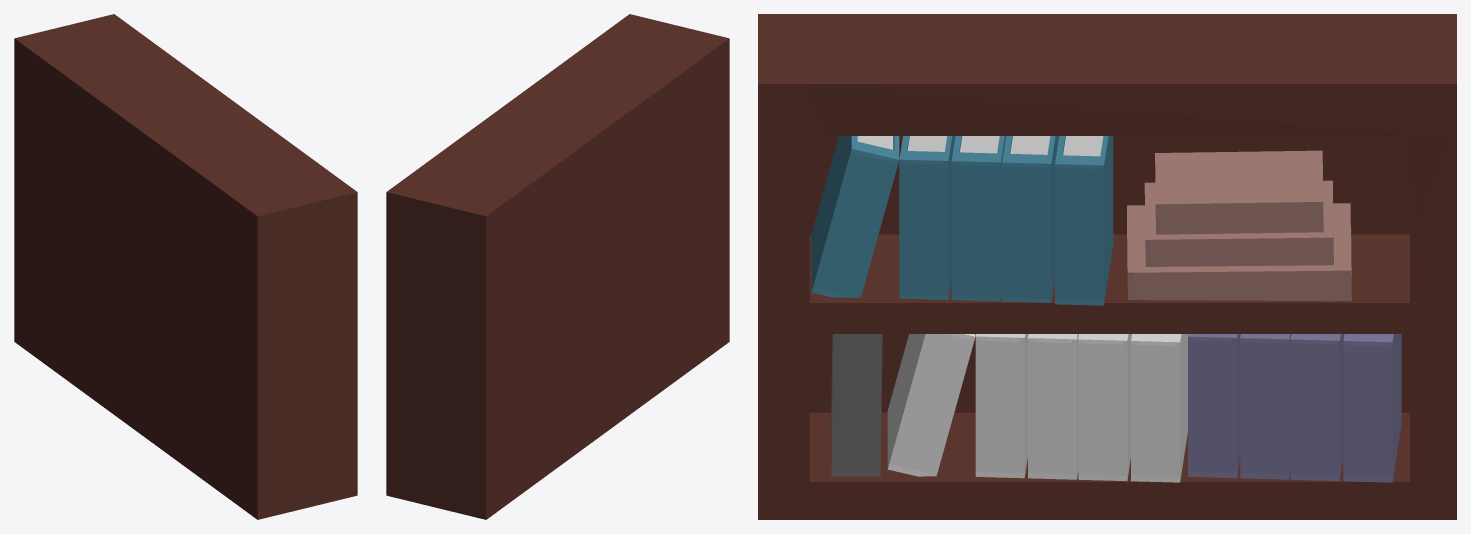
File: BookShelf_Filled.fbx
The picture shows the model from 3 angles, left to right: view 1: azimuth 30°, elevation 25°; view 2: azimuth 150°, elevation 25°; view 3: azimuth 270°, elevation 25°; orthographic projection. The views are drawn at different scales.
Parts seen in each view (by area): view 1: pCube6; view 2: pCube6; view 3: pCube6.
Part boxes in pixels (x1,y1,x2,y2): pCube6: (14,14,357,519); pCube6: (386,14,729,519); pCube6: (758,14,1456,519).
Size of the model in its own units: 0.3516 by 1 by 1.45.
